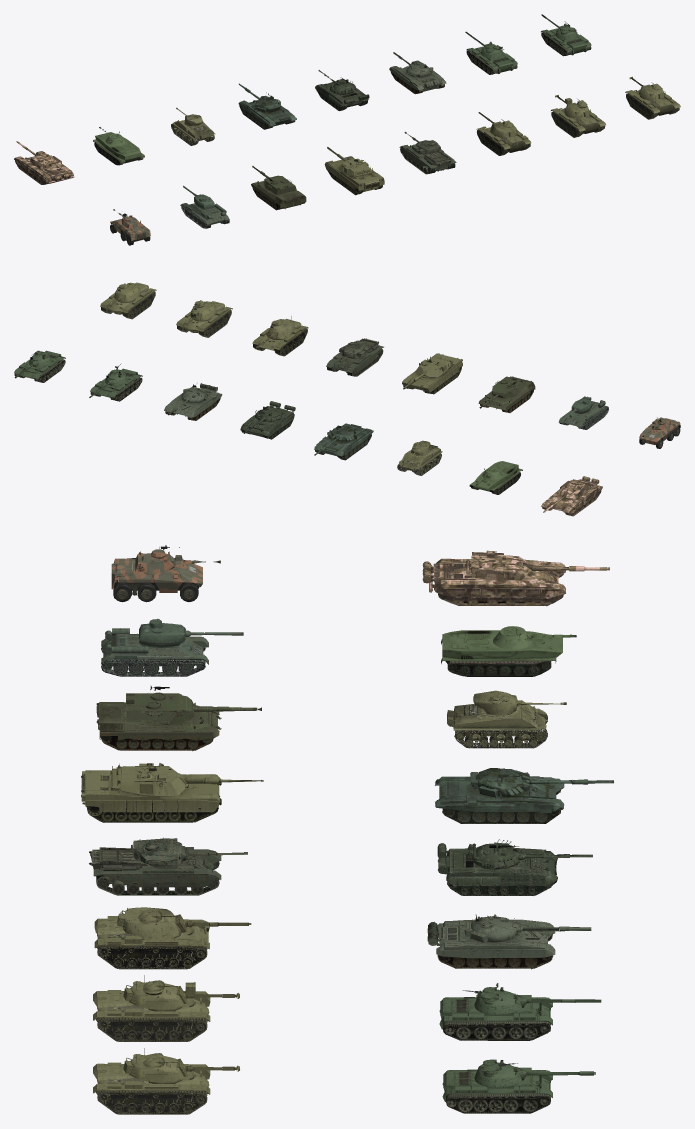
File: mass_assault_vehicle.glb
3 views of the same model, one above another, from view 1: azimuth 30°, elevation 25°; view 2: azimuth 150°, elevation 25°; view 3: azimuth 270°, elevation 25° (orthographic). The views are drawn at different scales.
Parts seen in each view (by area): view 1: Centurion8; view 2: Centurion8; view 3: Centurion8.
Part boxes in pixels (<box>): Centurion8: <box>14,14,680,245</box>; Centurion8: <box>14,282,680,516</box>; Centurion8: <box>81,545,613,1114</box>.
Size of the model in its own units: 8 by 0.4367 by 3.37.
Materials: 47 (47 with a texture image).
